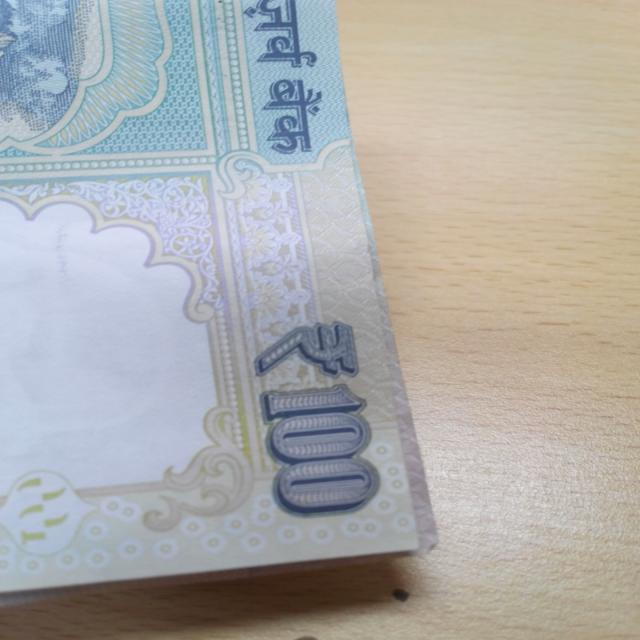100rs: (0, 0, 439, 592)
